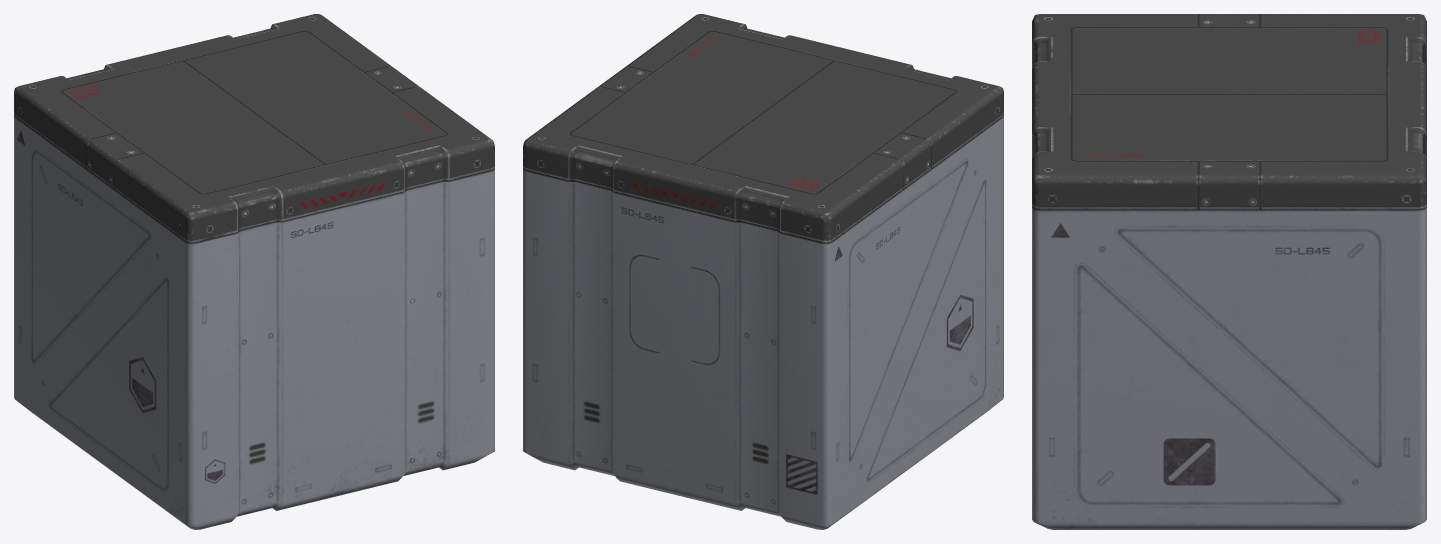
The picture shows the model from 3 angles, left to right: view 1: azimuth 30°, elevation 25°; view 2: azimuth 150°, elevation 25°; view 3: azimuth 270°, elevation 25°; orthographic projection. The views are drawn at different scales.
Visible parts, largest first — view 1: Crate 1 _Default_0; view 2: Crate 1 _Default_0; view 3: Crate 1 _Default_0.
Part boxes in pixels (<box>): Crate 1 _Default_0: <box>14,14,494,529</box>; Crate 1 _Default_0: <box>523,14,1003,529</box>; Crate 1 _Default_0: <box>1032,14,1426,529</box>.
Bounding box in the file's own units: 3.9 × 3.9 × 3.9.
Materials: 1 (1 with a texture image).
